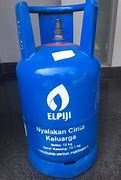blue_gas: (15, 1, 101, 178)
